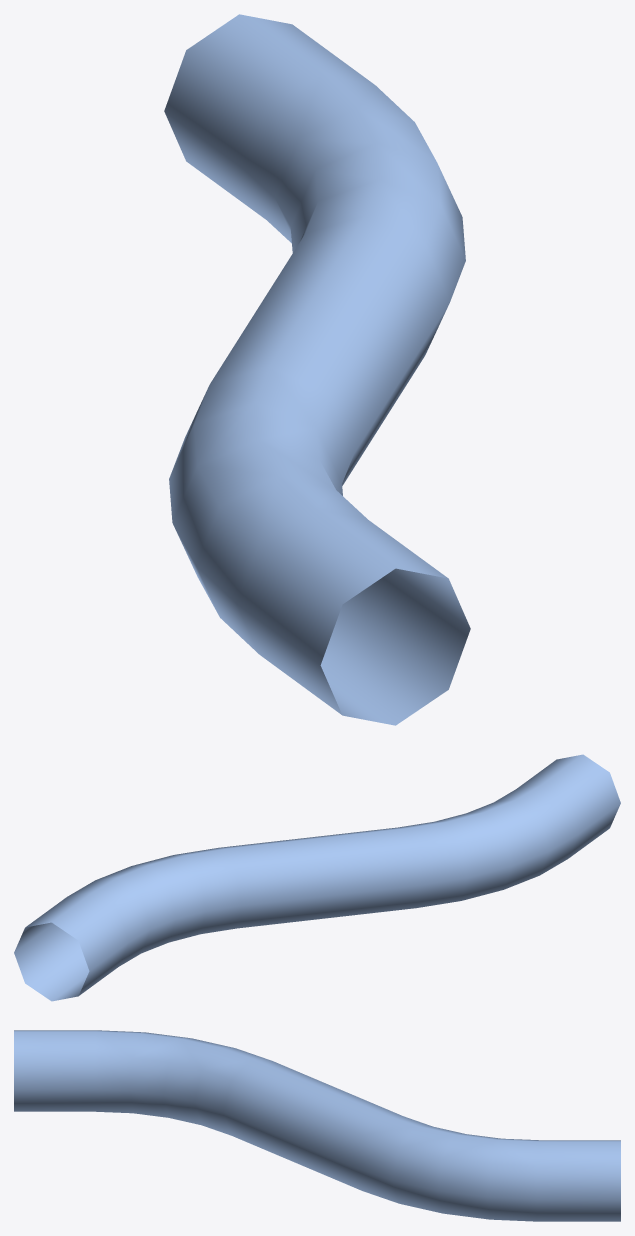
File: PipeSmall_BentSpecial_06.fbx
3 renders of one model, top to bottom at view 1: azimuth 30°, elevation 25°; view 2: azimuth 150°, elevation 25°; view 3: azimuth 270°, elevation 25°, orthographic. The views are drawn at different scales.
Parts seen in each view (by area): view 1: PipeSmall_BentSpecial_06.001; view 2: PipeSmall_BentSpecial_06.001; view 3: PipeSmall_BentSpecial_06.001.
Boxes of the visible parts, x1,y1,x2,y2 form: PipeSmall_BentSpecial_06.001: (164,14,470,725); PipeSmall_BentSpecial_06.001: (14,754,620,1001); PipeSmall_BentSpecial_06.001: (14,1030,620,1221).
Size of the model in its own units: 0.4 by 0.1 by 0.7.
